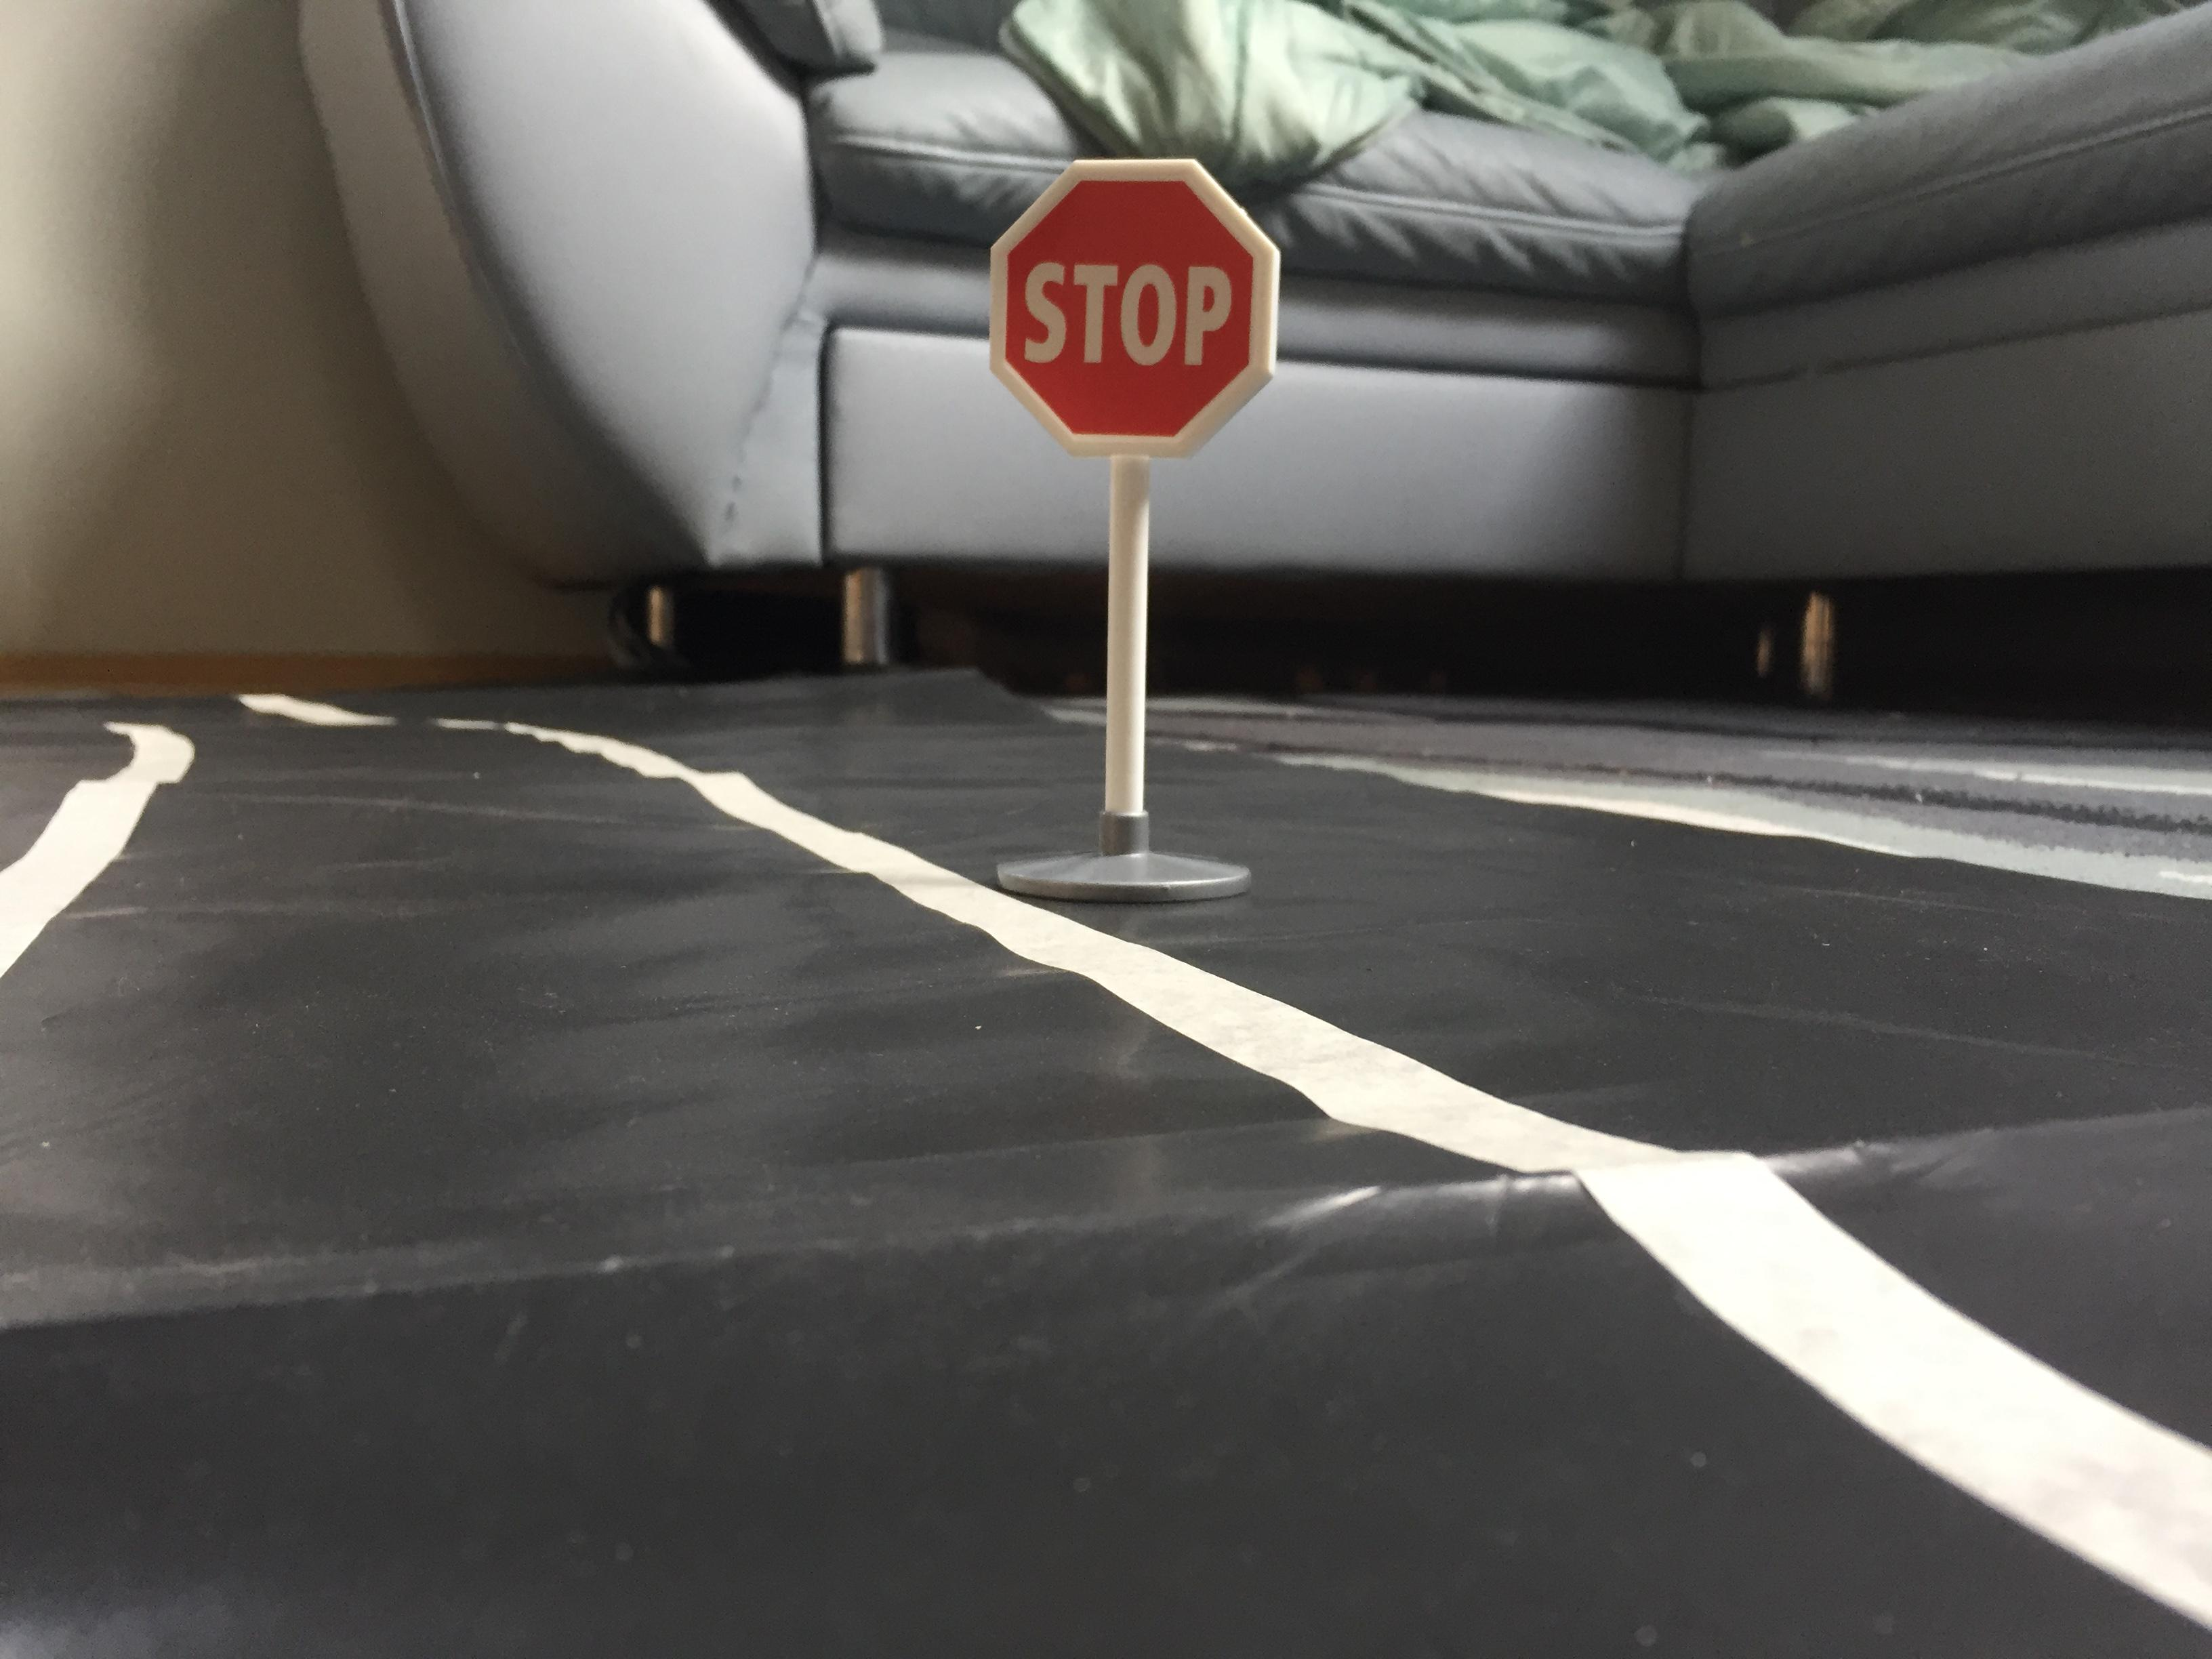stop: (968, 138, 1294, 471)
